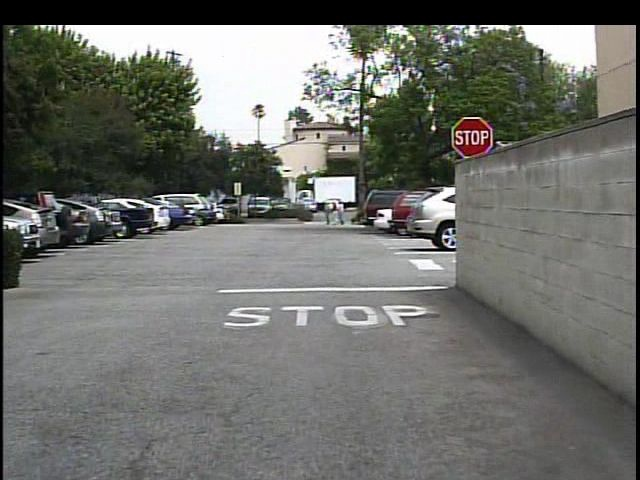person: (332, 201, 347, 229), (318, 202, 332, 228)
